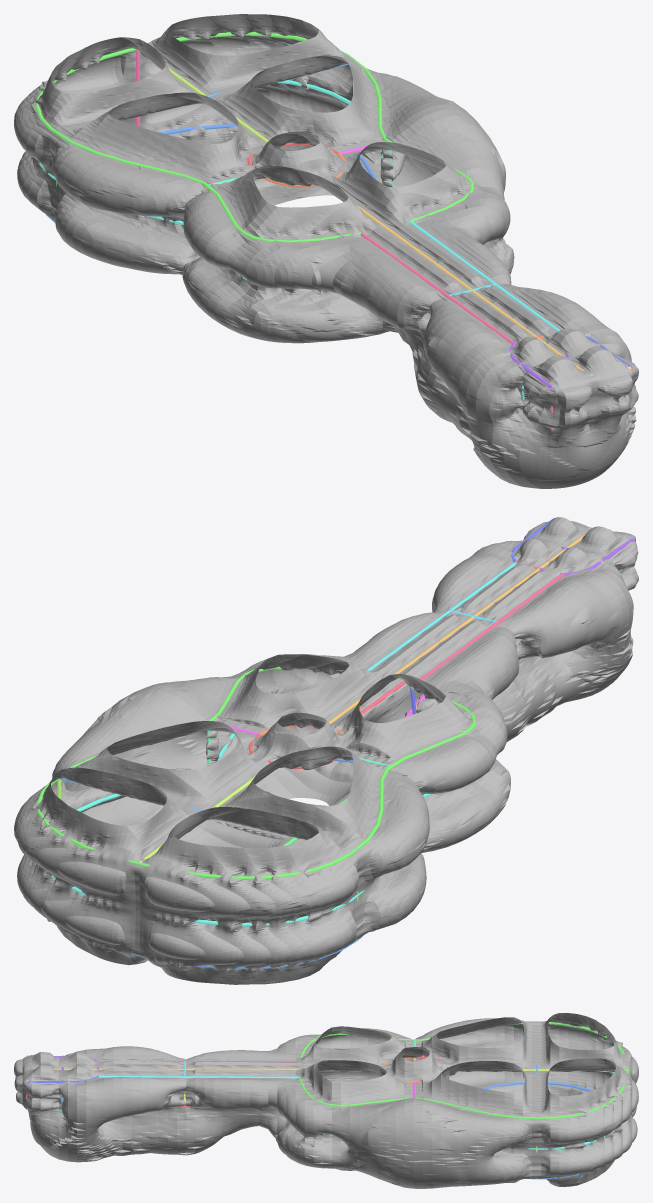
File: t2f_guitar.gltf
3 renders of one model, top to bottom at view 1: azimuth 30°, elevation 25°; view 2: azimuth 150°, elevation 25°; view 3: azimuth 270°, elevation 25°, orthographic. The views are drawn at different scales.
Bounding box in the file's own units: 0.4336 × 0.1565 × 0.9675.
